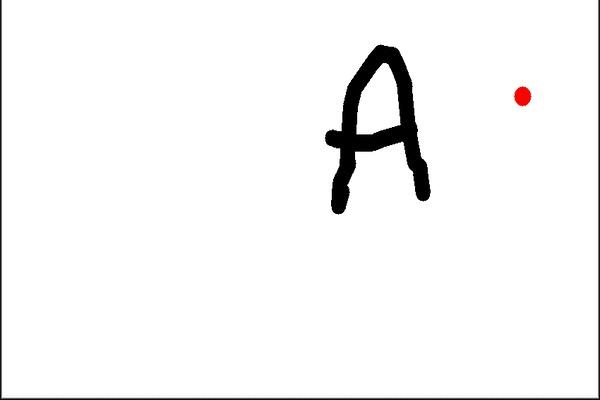A: (313, 39, 440, 216)
